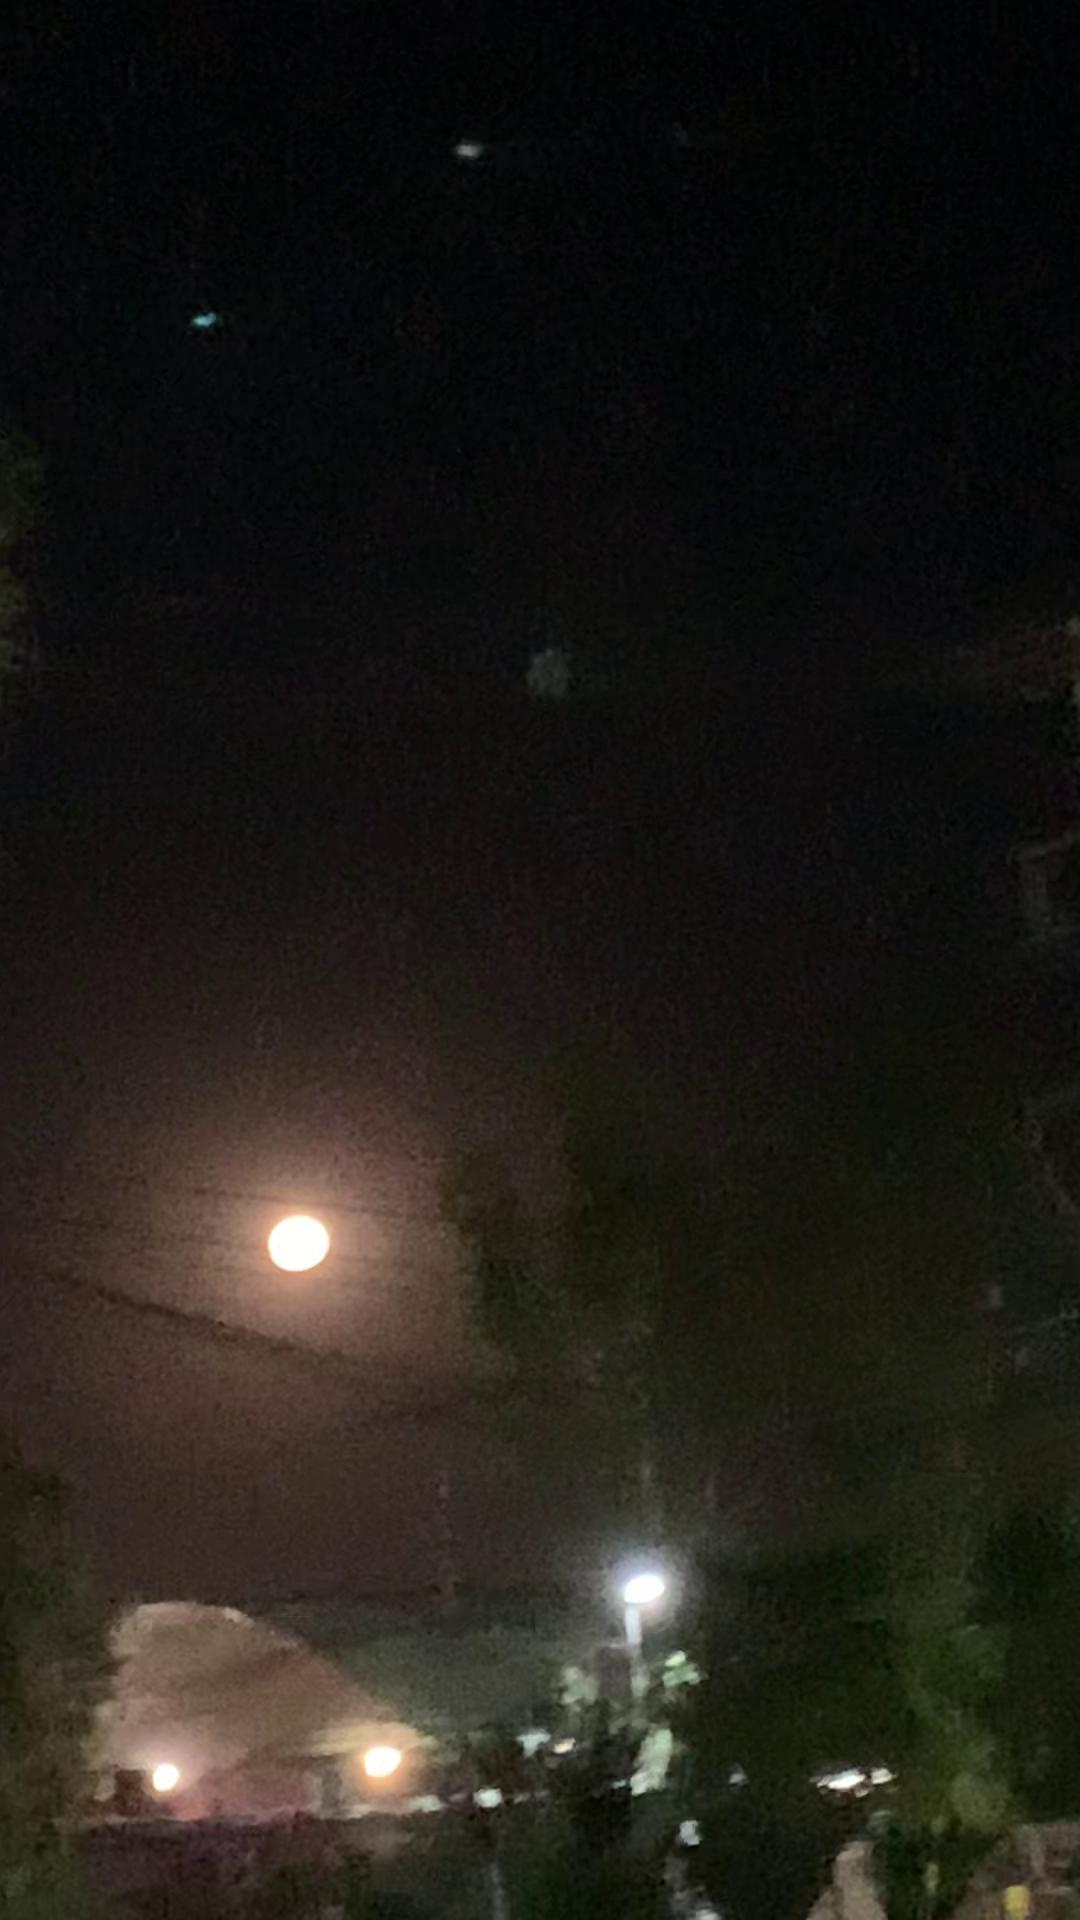moon: (247, 1192, 344, 1275)
